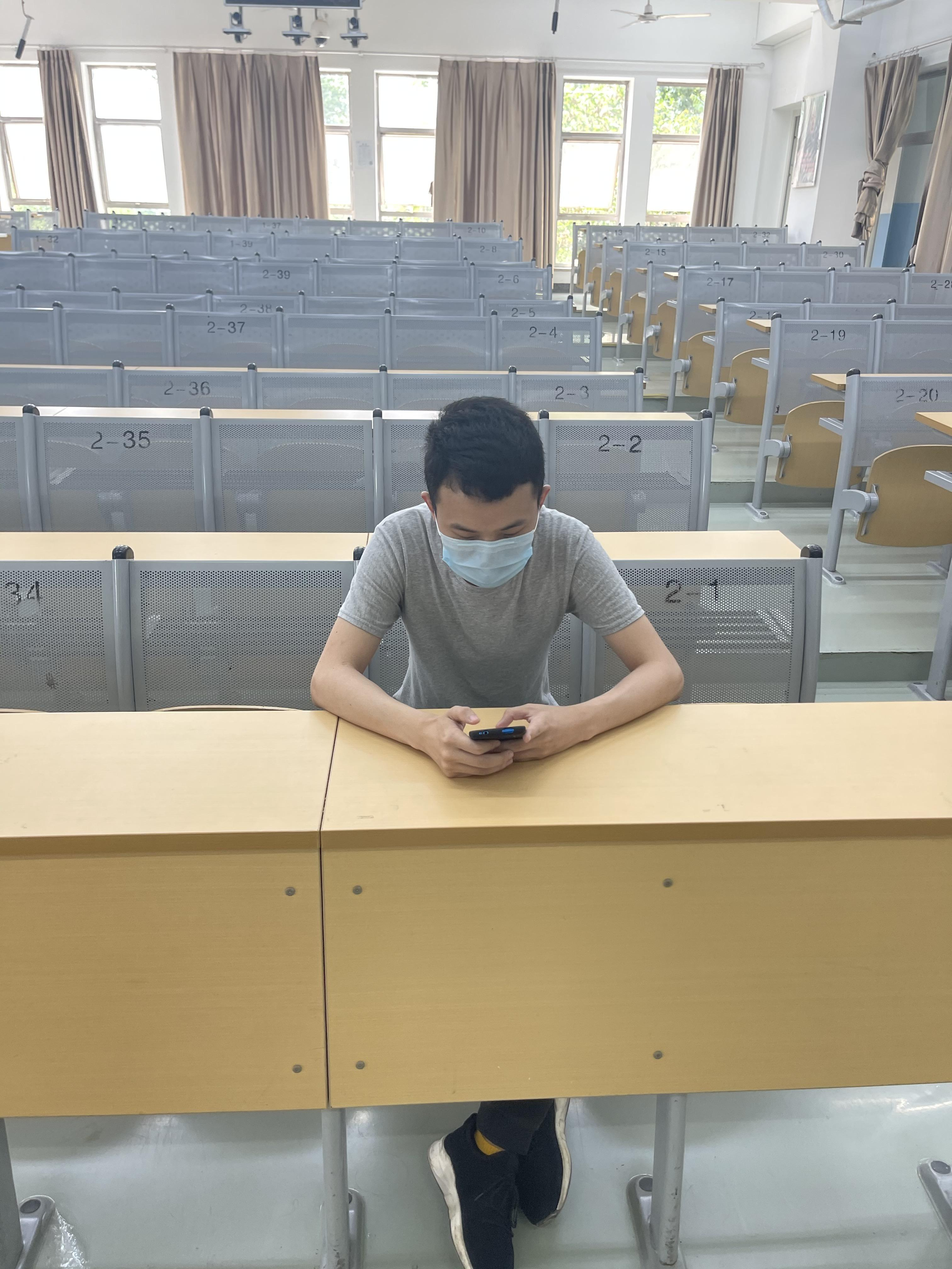phone: (309, 397, 684, 778)
